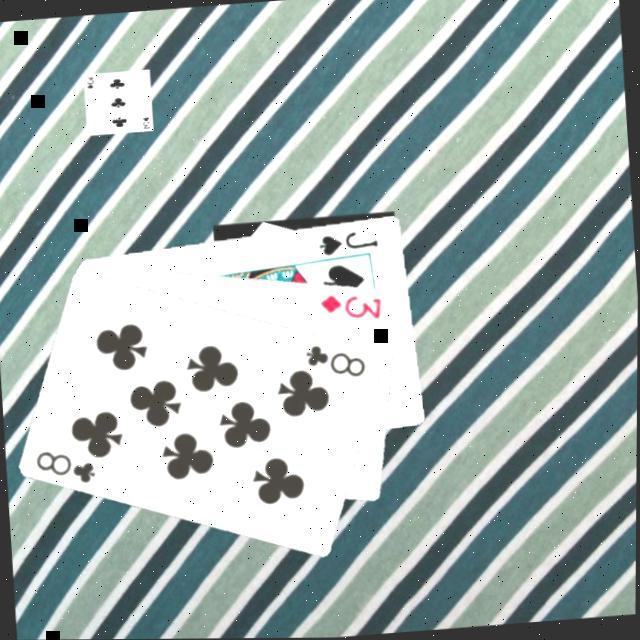3D: (314, 286, 384, 325)
8C: (31, 442, 100, 489), (301, 337, 370, 383)
JS: (314, 225, 380, 257)
